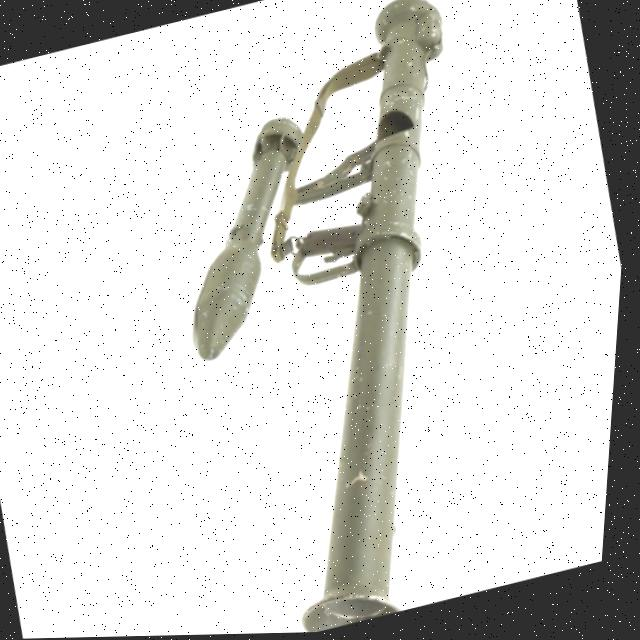rocket: (73, 0, 578, 638)
